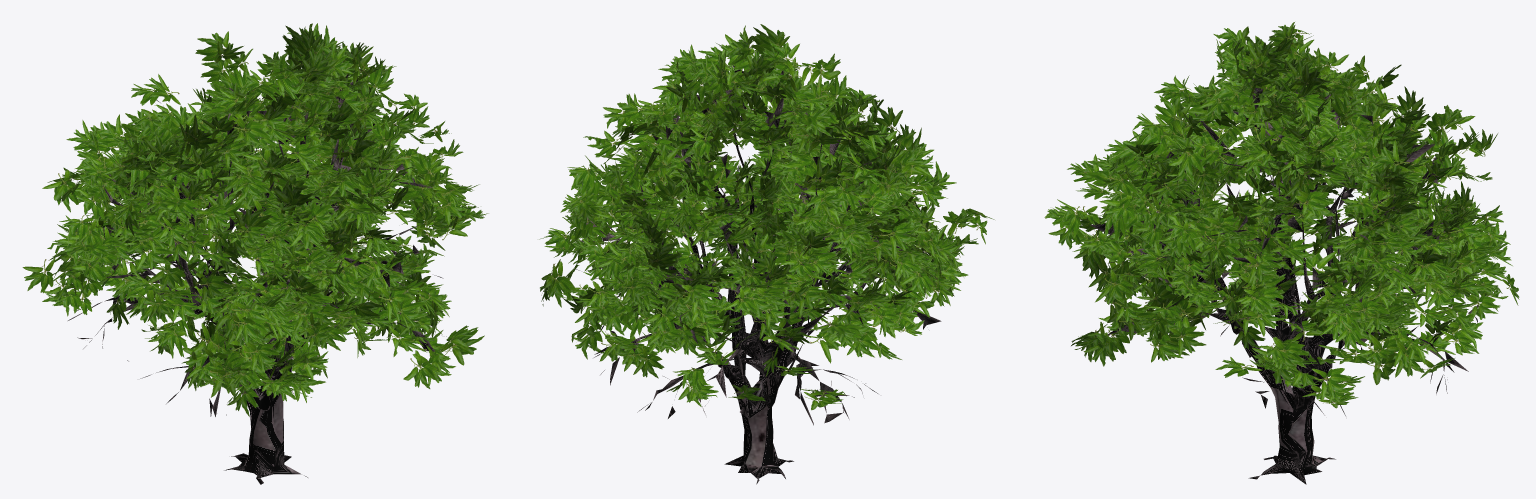
File: neem.med.glb
3 renders of one model, left to right at view 1: azimuth 30°, elevation 25°; view 2: azimuth 150°, elevation 25°; view 3: azimuth 270°, elevation 25°, orthographic. The views are drawn at different scales.
Parts seen in each view (by area): view 1: leaves, trunk; view 2: leaves, trunk; view 3: leaves, trunk.
Boxes of the visible parts, left/top/right/bottom form: leaves: left=22, top=23, right=488, bottom=416; trunk: left=68, top=74, right=446, bottom=484; leaves: left=539, top=24, right=994, bottom=410; trunk: left=574, top=66, right=960, bottom=484; leaves: left=1044, top=22, right=1519, bottom=408; trunk: left=1090, top=78, right=1479, bottom=484.
Size of the model in its own units: 6.78 by 7.06 by 6.92.
2 materials, 2 textured.
